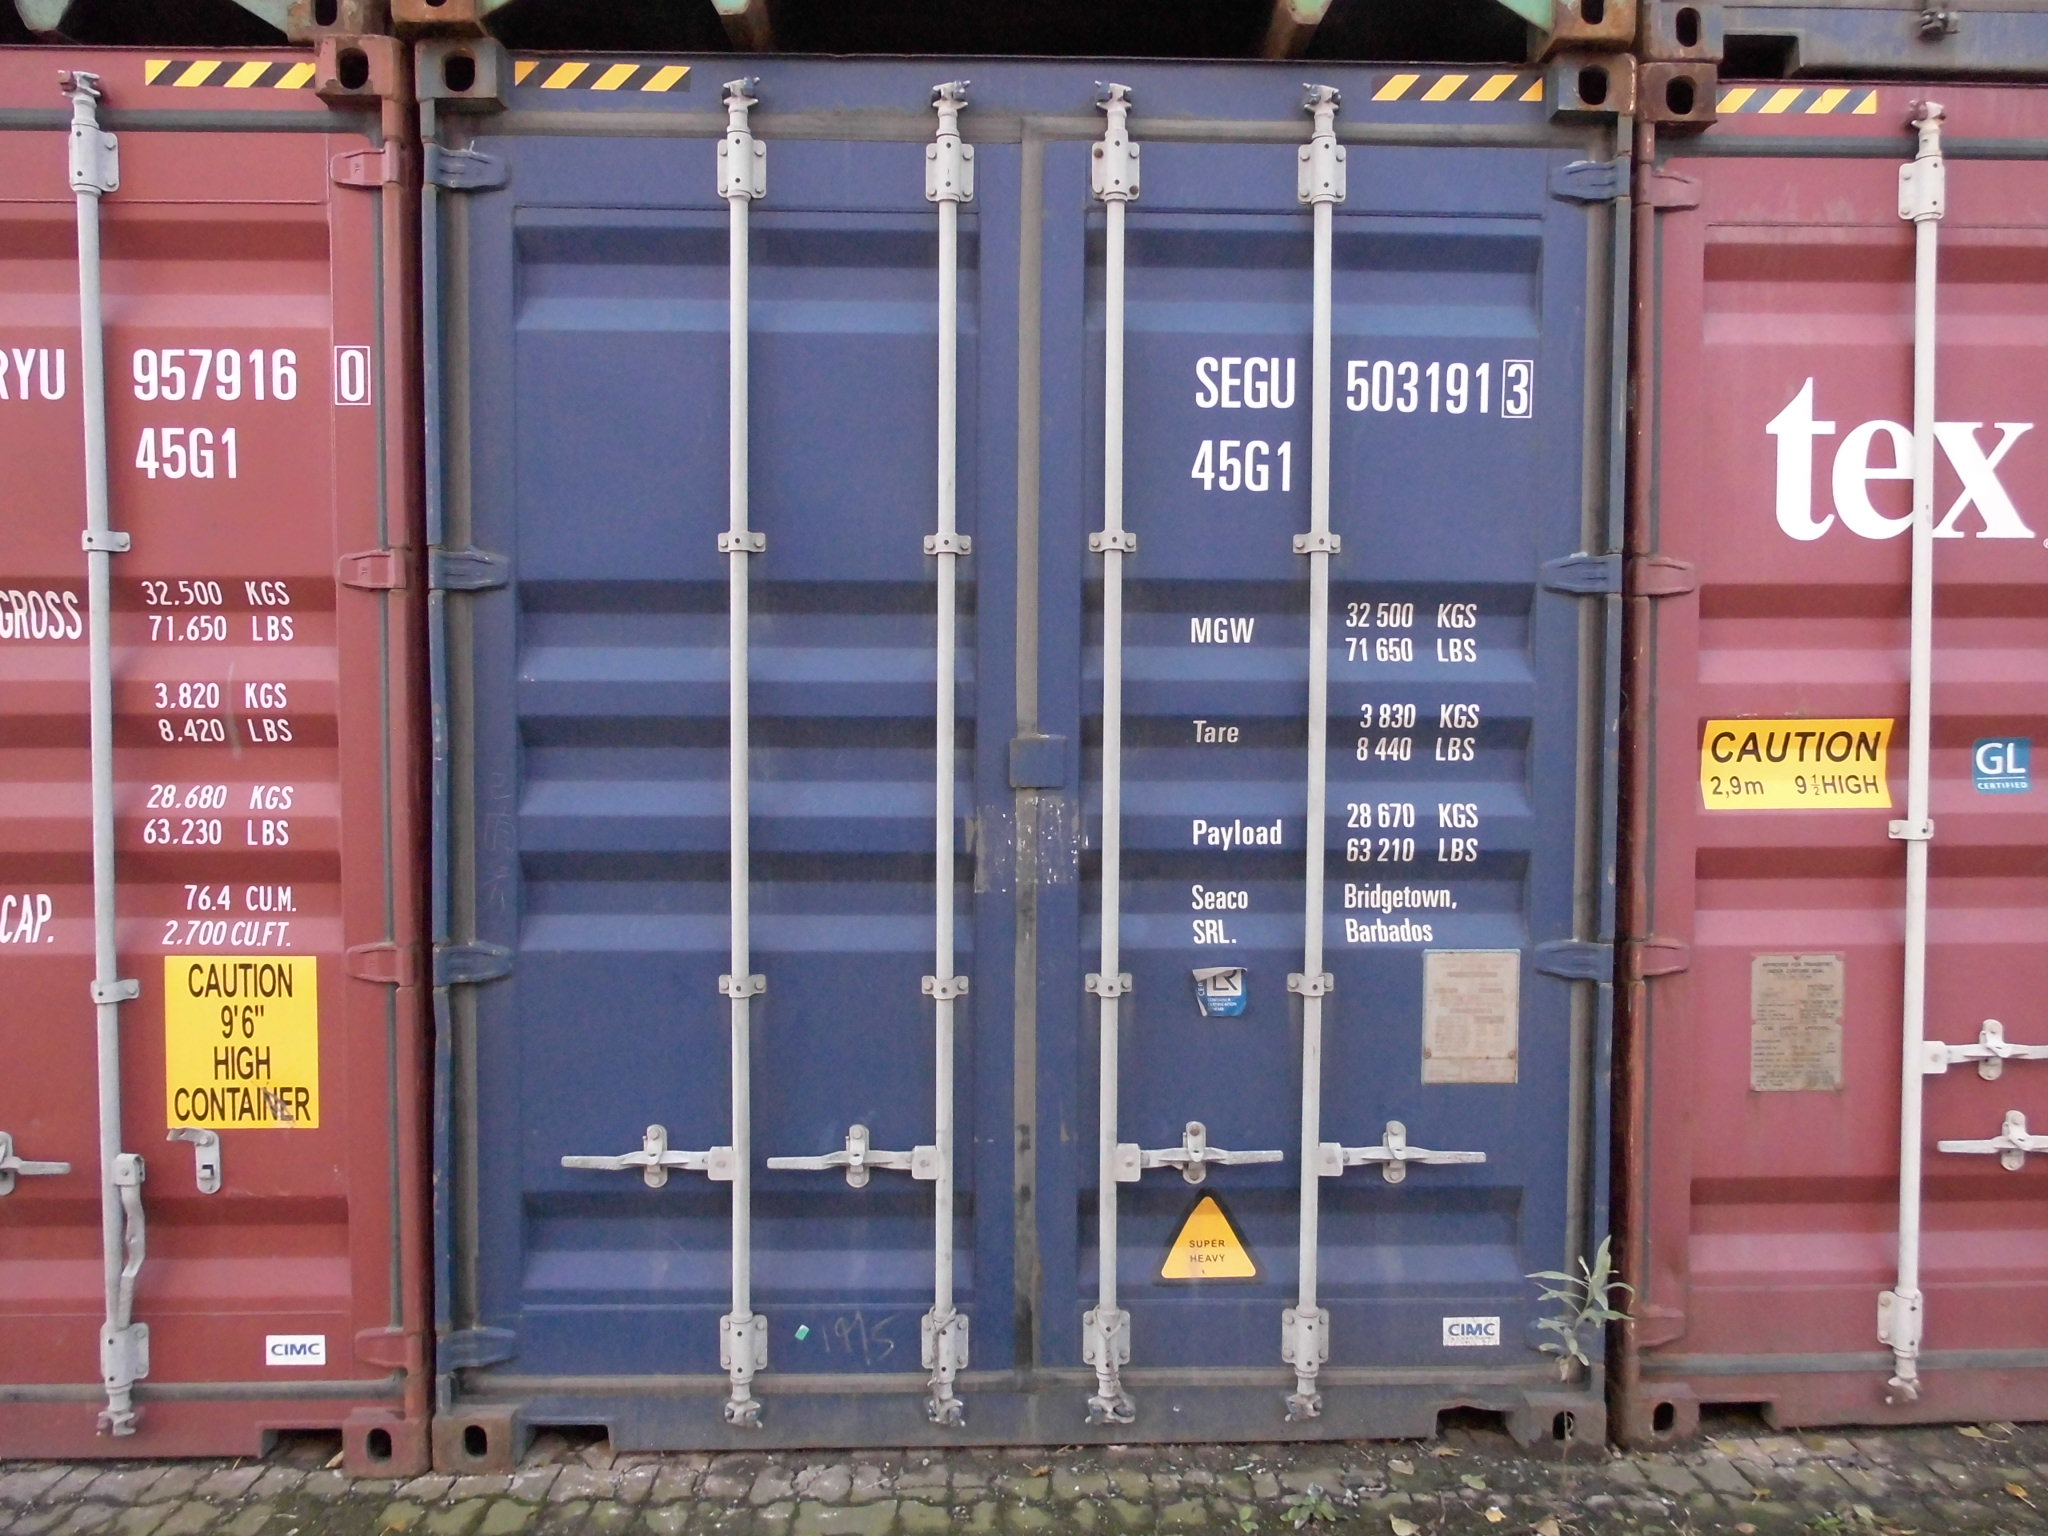container_door: (410, 39, 1627, 1460)
